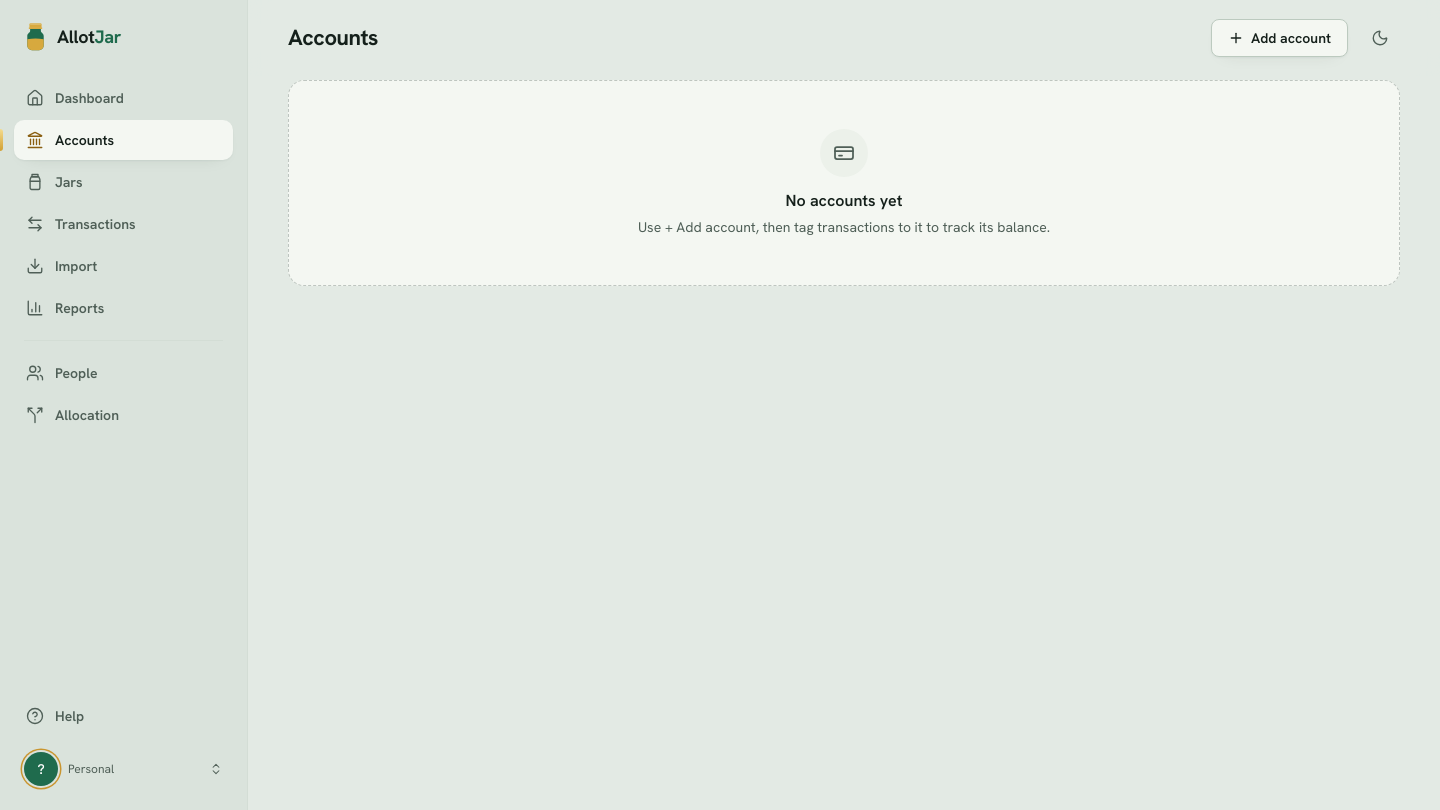
AccountsPage › adds an account
Click the button "Add account" at (1280, 38), box top-left (1211, 19), bottom-right (1348, 57)
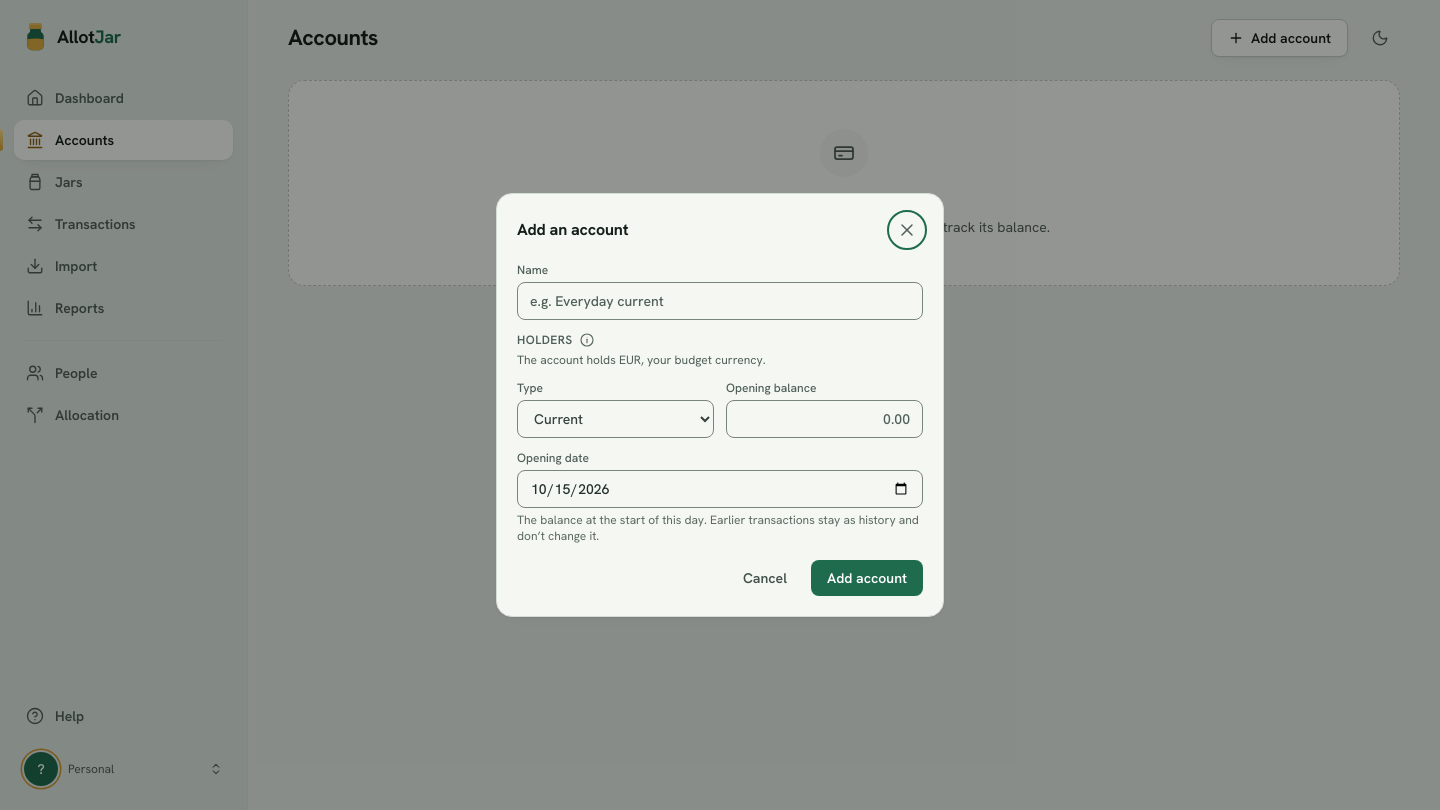
Type "Wallet" into the field named "Account name" at (720, 301), box top-left (517, 282), bottom-right (923, 320)
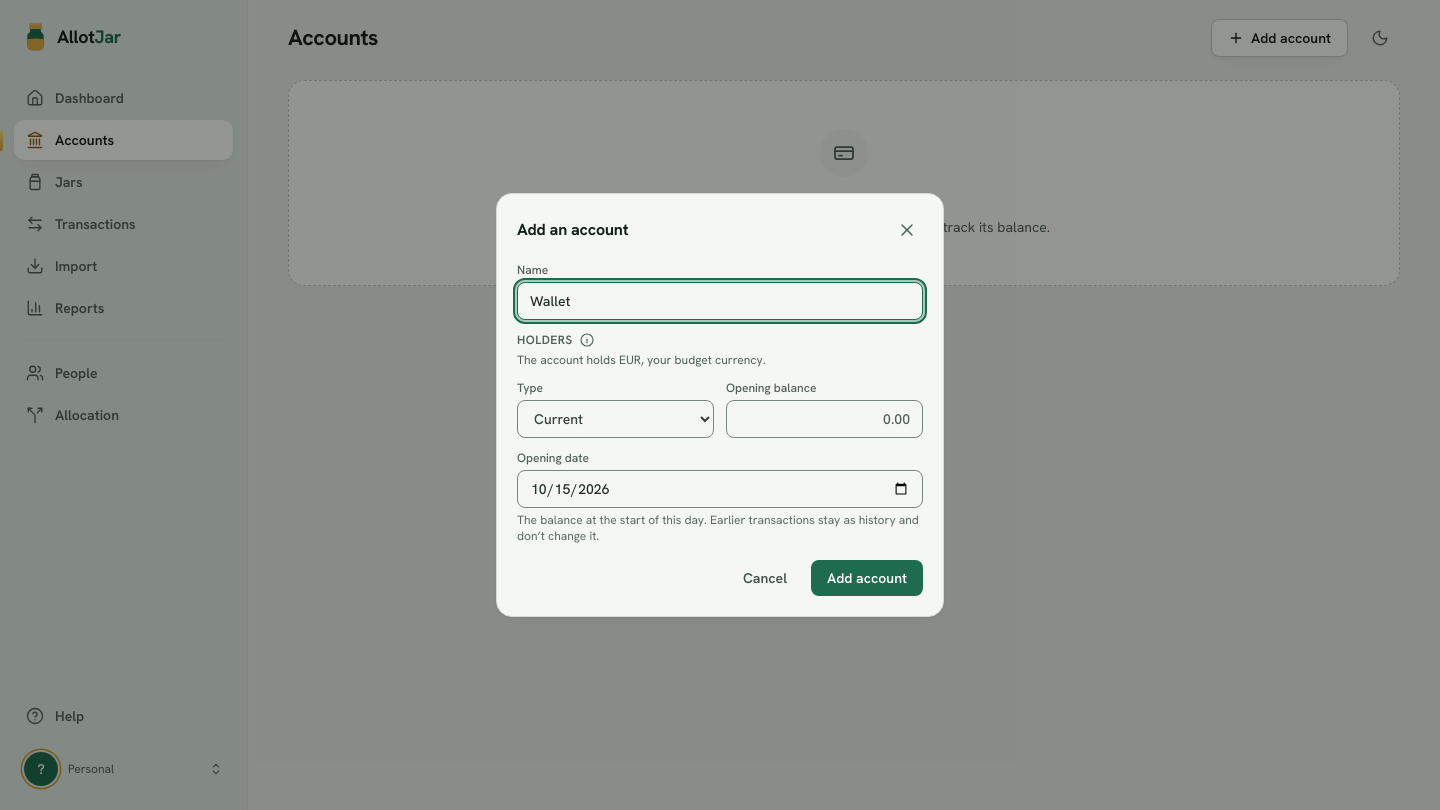
Select "Cash" in the dropdown named "Account type" at (616, 419), box top-left (517, 400), bottom-right (714, 438)
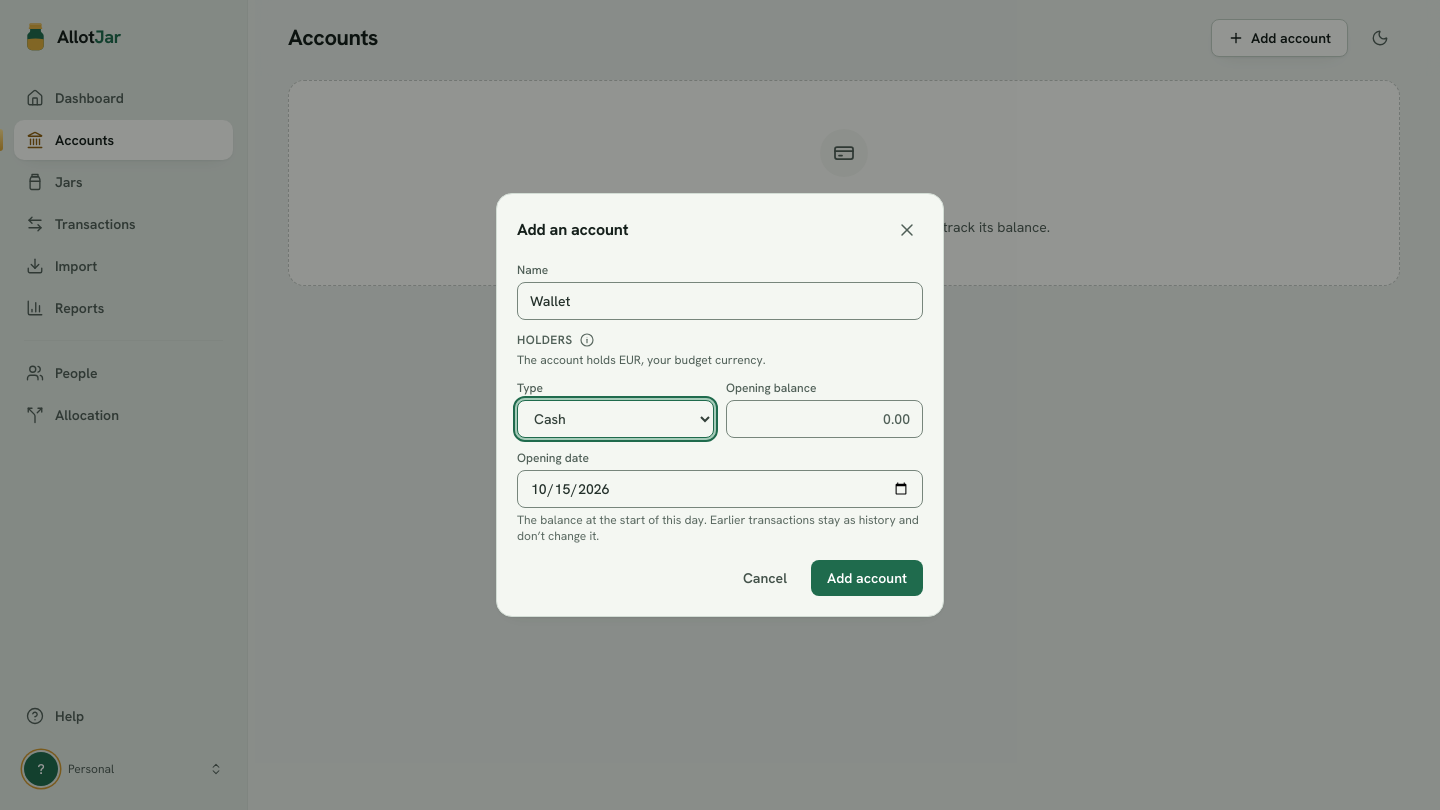
Type "40" into the field labelled "Opening balance" at (824, 419), box top-left (726, 400), bottom-right (923, 438)
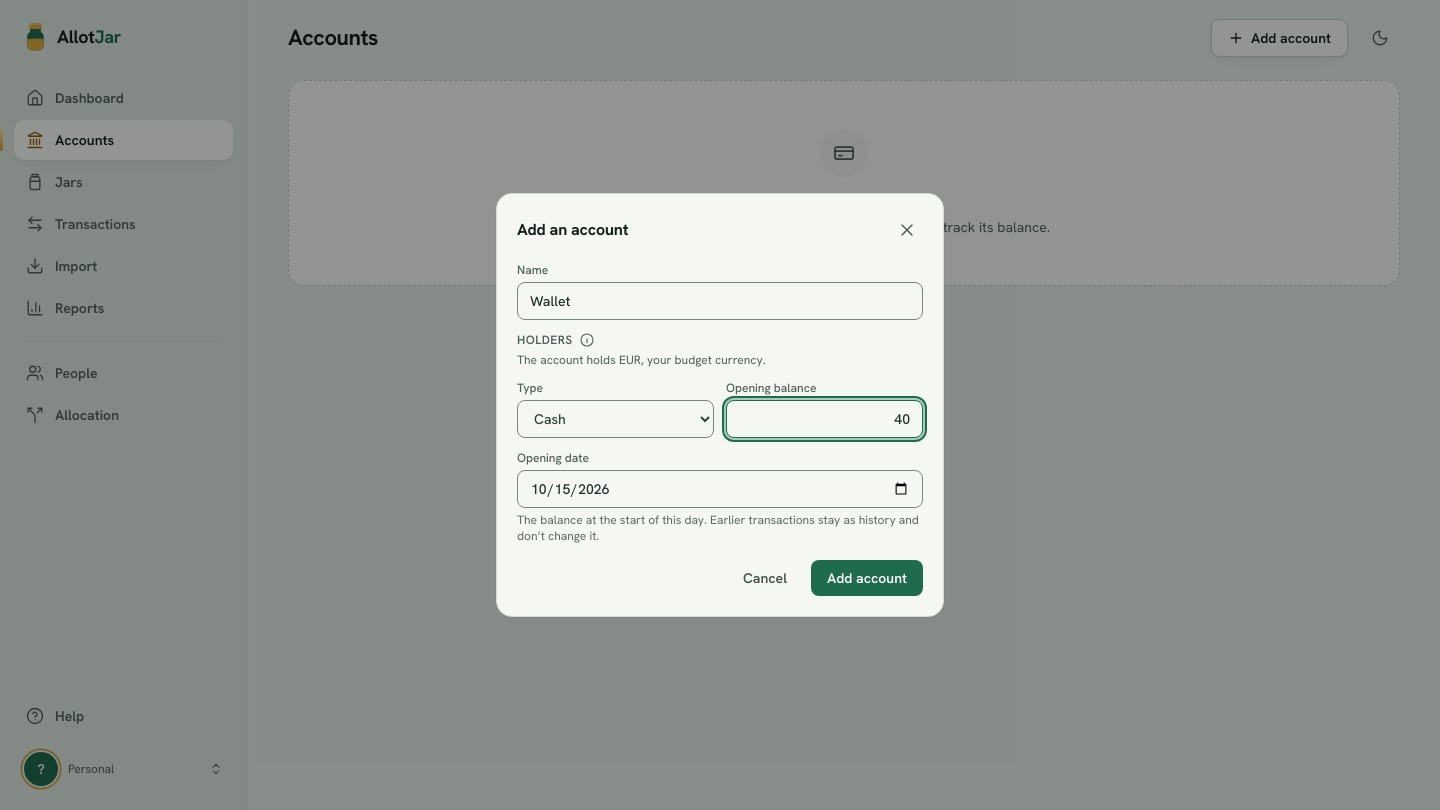
Click the button "Add account" at (867, 578), box top-left (811, 560), bottom-right (923, 596)
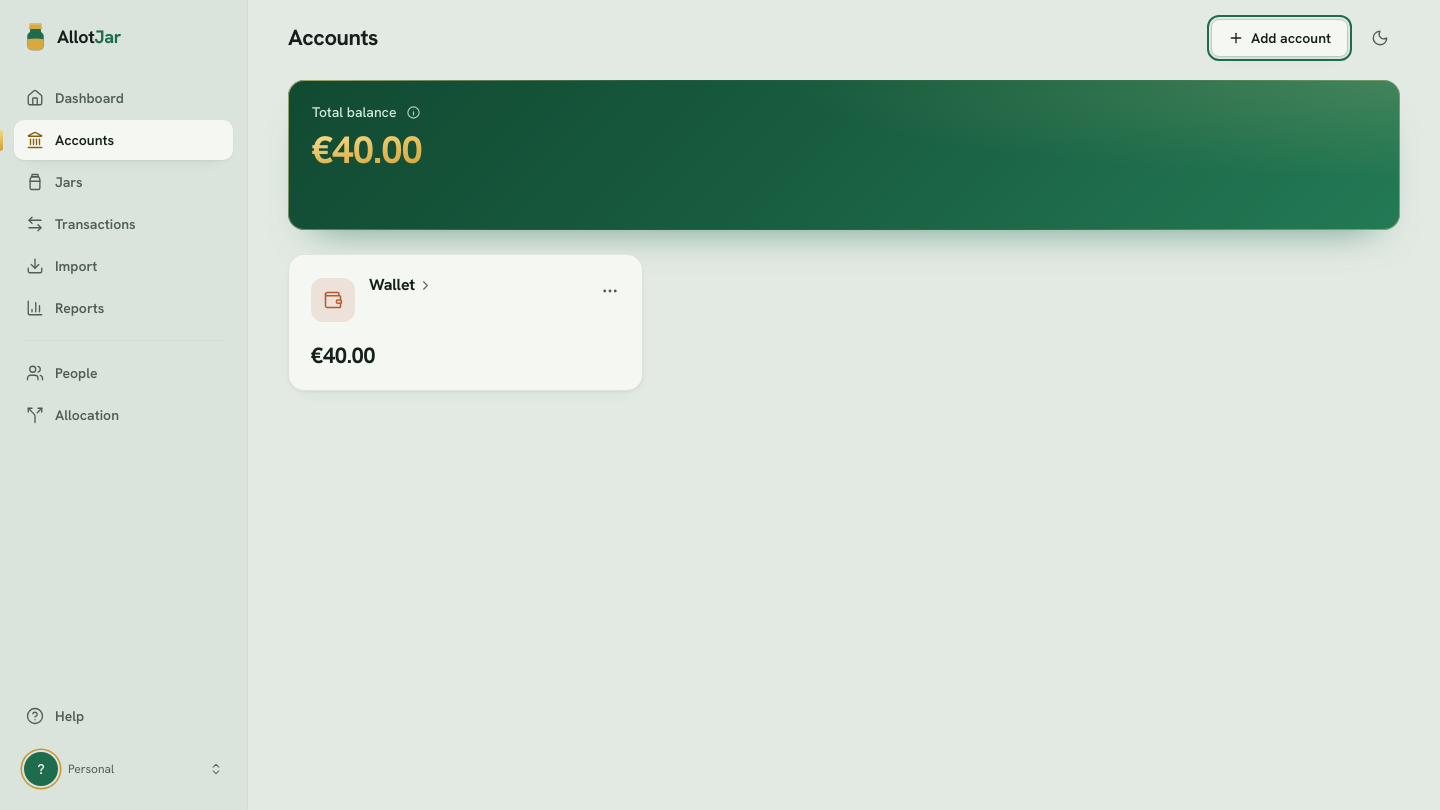
Now the text "Wallet" is shown, box top-left (369, 275), bottom-right (415, 295)
